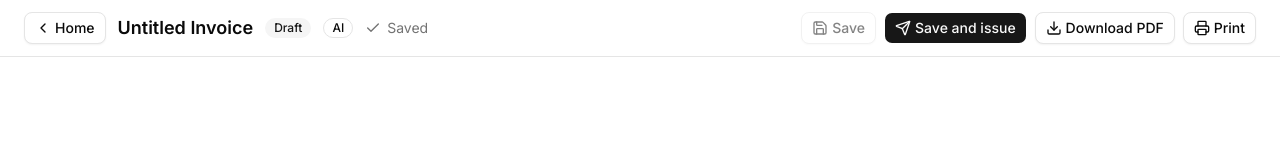
it: editor header (AC-23) › shows the mark beside the Draft badge with the chat tooltip
This screenshot has width=1280, height=160.
Expected: the icon "Draft" is shown, [265,18,311,38]
Step 1. Hover over the icon "AI" → {"x": 338, "y": 28}, box [323,18,353,38]
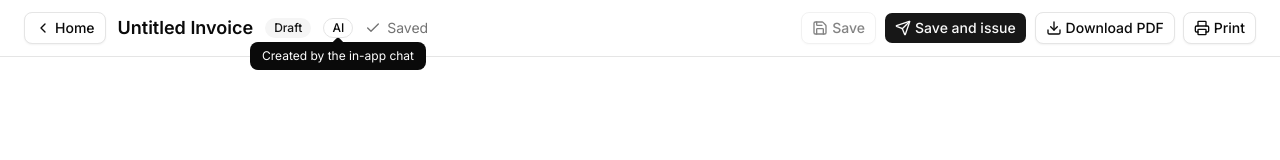
Now the text "Created by the in-app chat" is shown, box [250,42,426,70]
